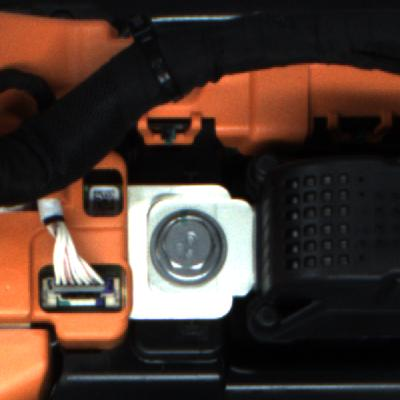nut_b: (147, 199, 255, 294)
